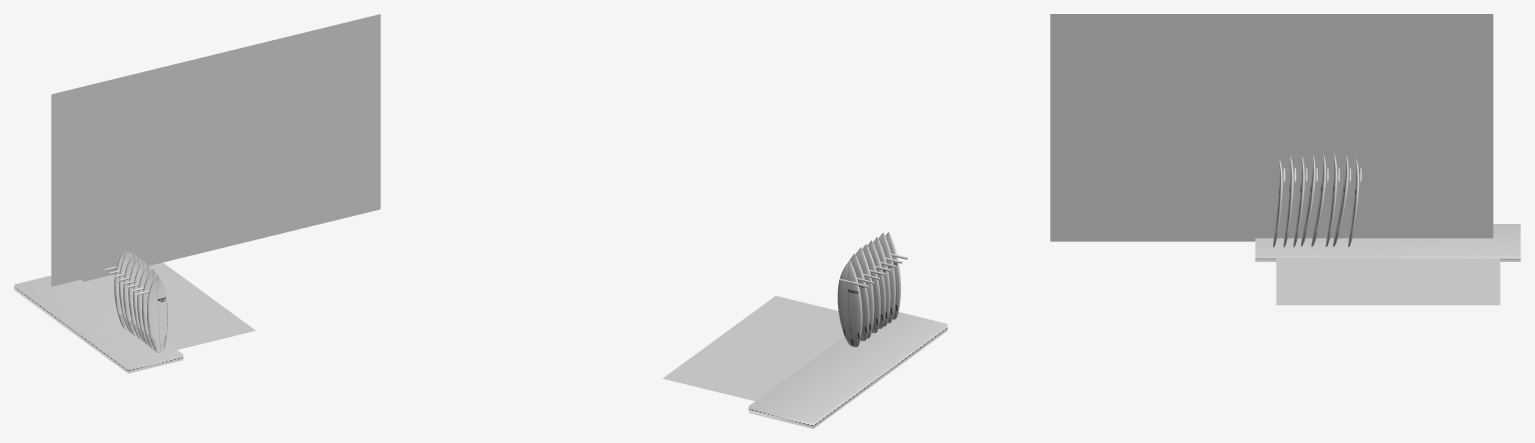
The model's file is room.glb.
3 renders of one model, left to right at view 1: azimuth 30°, elevation 25°; view 2: azimuth 150°, elevation 25°; view 3: azimuth 270°, elevation 25°, orthographic. The views are drawn at different scales.
Visible parts, largest first — view 1: Plane, Cube, Plane.001, Surfboard, Surfboard.005, Surfboard.001, Surfboard.004, Surfboard.002, Surfboard.007, Surfboard.003, Surfboard.006; view 2: Plane.001, Cube, Surfboard.007, Surfboard.006, Surfboard.004; view 3: Plane, Plane.001, Cube, Surfboard.004, Surfboard.006, Surfboard.003.
Part boxes in pixels (x1,y1,x2,y2): Plane: [51, 14, 380, 286]; Cube: [14, 275, 183, 373]; Plane.001: [84, 262, 255, 349]; Surfboard: [147, 275, 167, 352]; Surfboard.005: [123, 253, 137, 335]; Surfboard.001: [142, 268, 156, 349]; Surfboard.004: [128, 257, 141, 340]; Surfboard.002: [137, 265, 151, 346]; Surfboard.007: [114, 251, 127, 329]; Surfboard.003: [133, 260, 146, 342]; Surfboard.006: [119, 251, 132, 333]; Plane.001: [663, 296, 844, 401]; Cube: [748, 312, 947, 428]; Surfboard.007: [837, 260, 862, 347]; Surfboard.006: [849, 253, 869, 341]; Surfboard.004: [862, 244, 880, 333]; Plane: [1050, 14, 1493, 241]; Plane.001: [1276, 258, 1500, 305]; Cube: [1255, 224, 1520, 261]; Surfboard.004: [1311, 154, 1326, 246]; Surfboard.006: [1333, 155, 1348, 246]; Surfboard.003: [1301, 154, 1315, 246].
Bounding box in the file's own units: 12.87 × 6.87 × 12.68.
9 materials, 8 textured.
